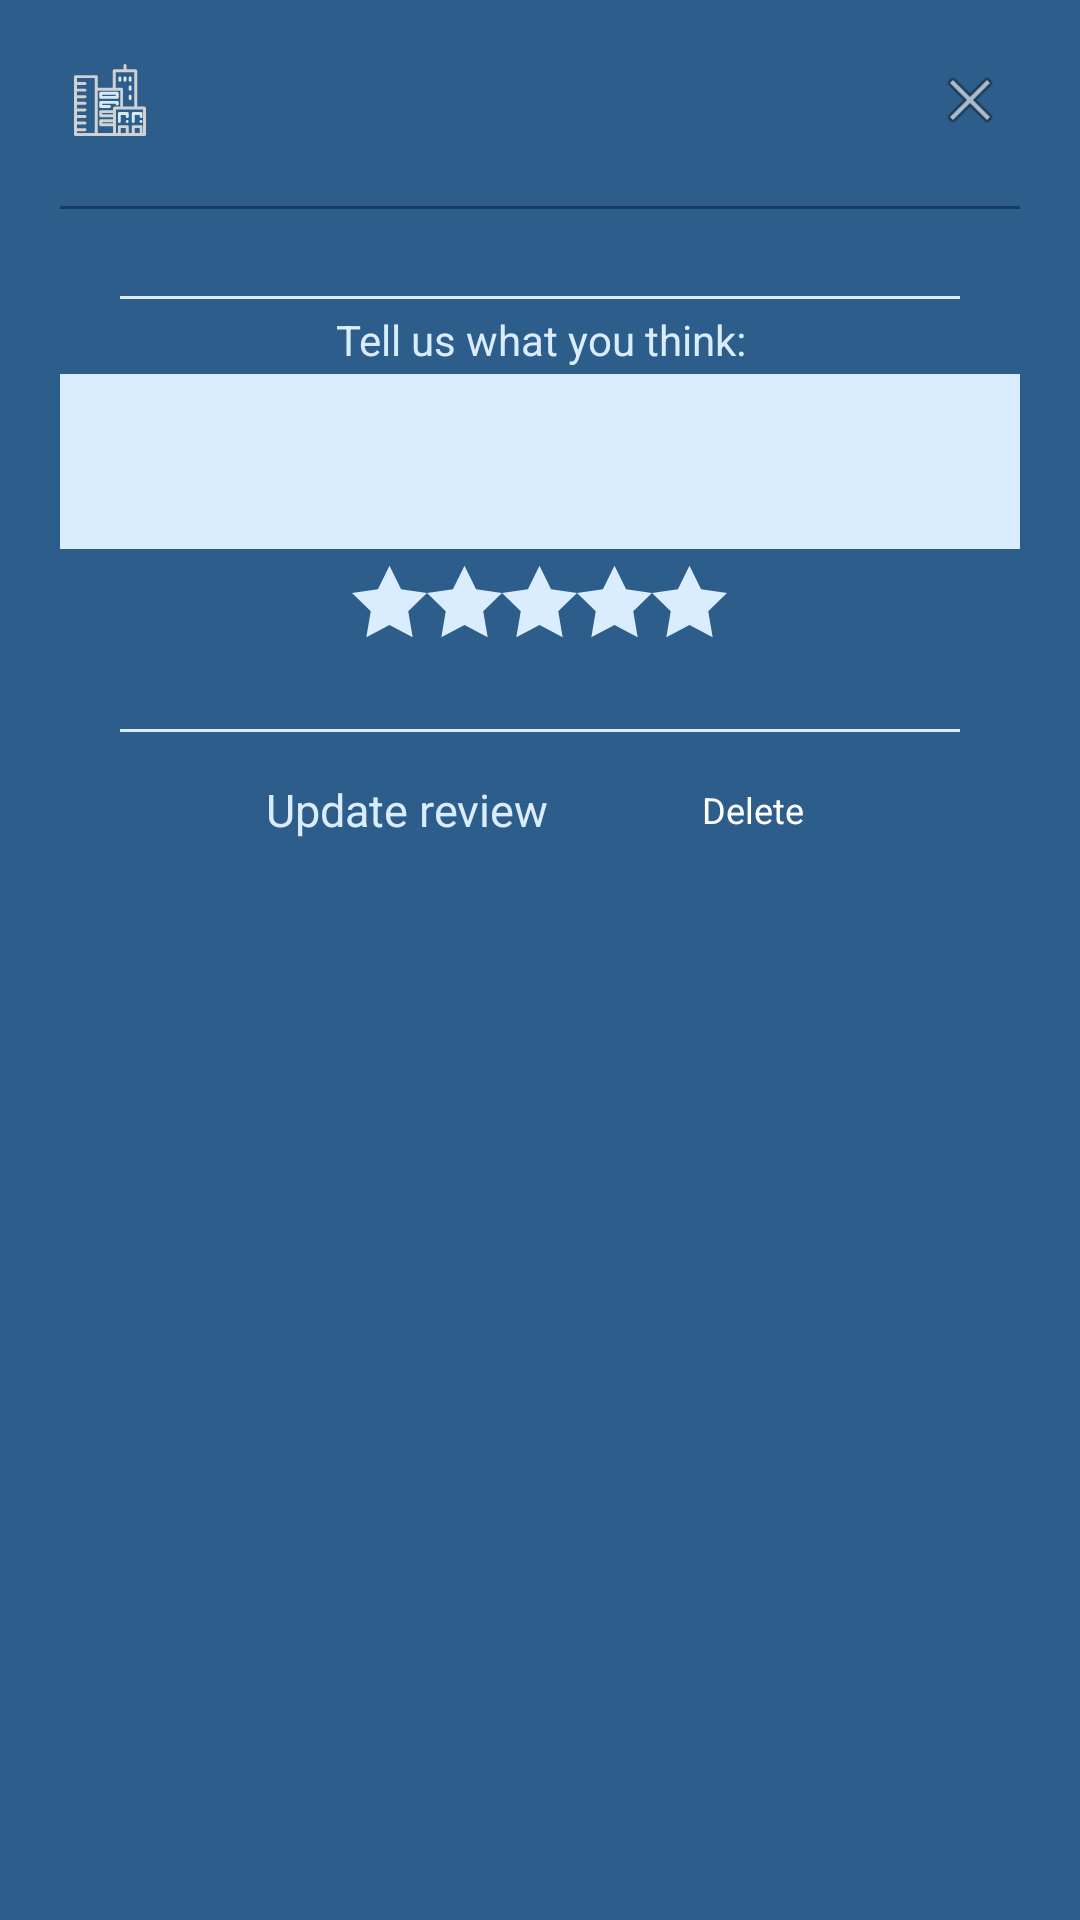

Screen size 1080*1920. Icon name, then its center in pixels as (x=x, y=y):
buildings town: (x=110, y=100)
close clear cancel: (x=970, y=100)
